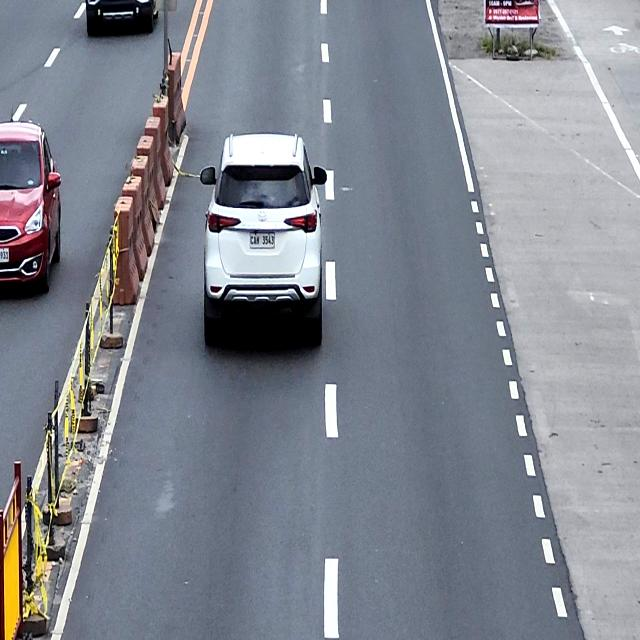Car: (200, 132, 327, 352), (0, 120, 62, 294), (85, 0, 159, 33)
License-Plate: (250, 232, 275, 249), (0, 247, 10, 264)
